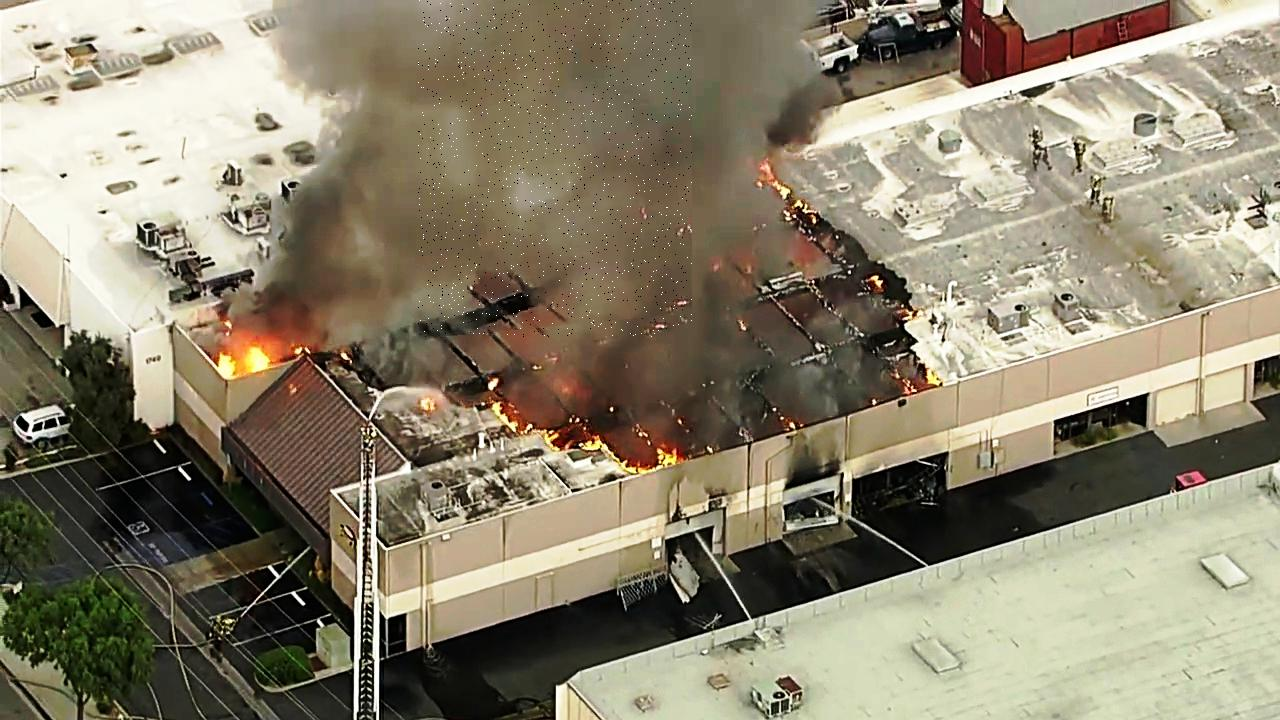smoke: (418, 0, 692, 337)
